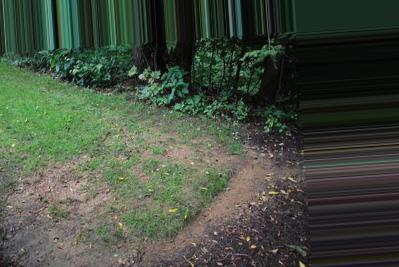patch: (197, 163, 259, 226), (65, 206, 106, 250), (37, 171, 70, 199), (163, 139, 193, 160)
